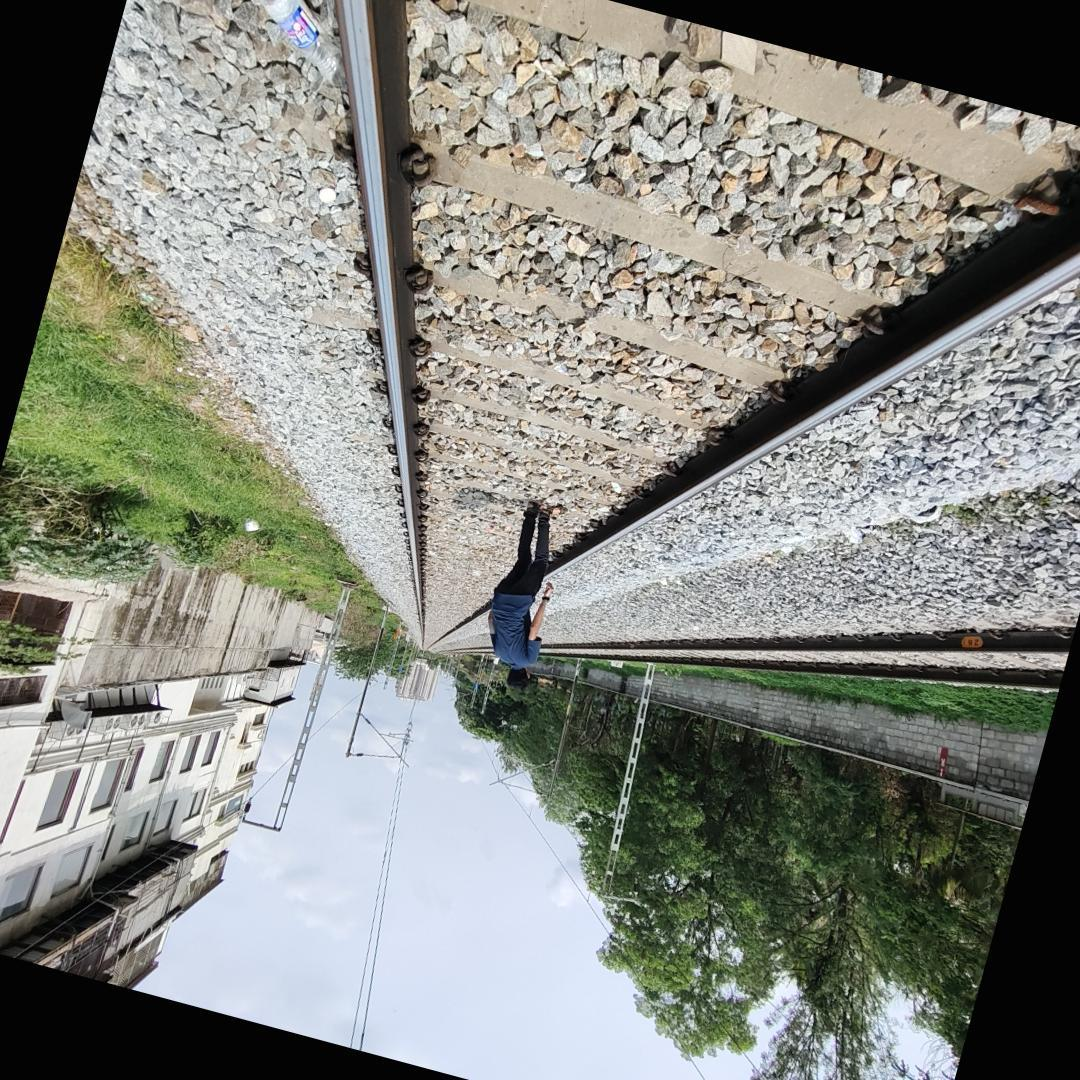standing: (478, 494, 572, 702)
track: (298, 0, 1080, 653)
